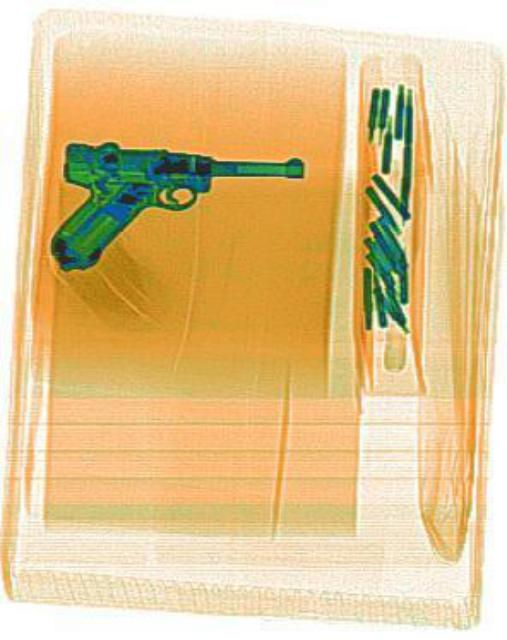Gun: (47, 136, 302, 286)
